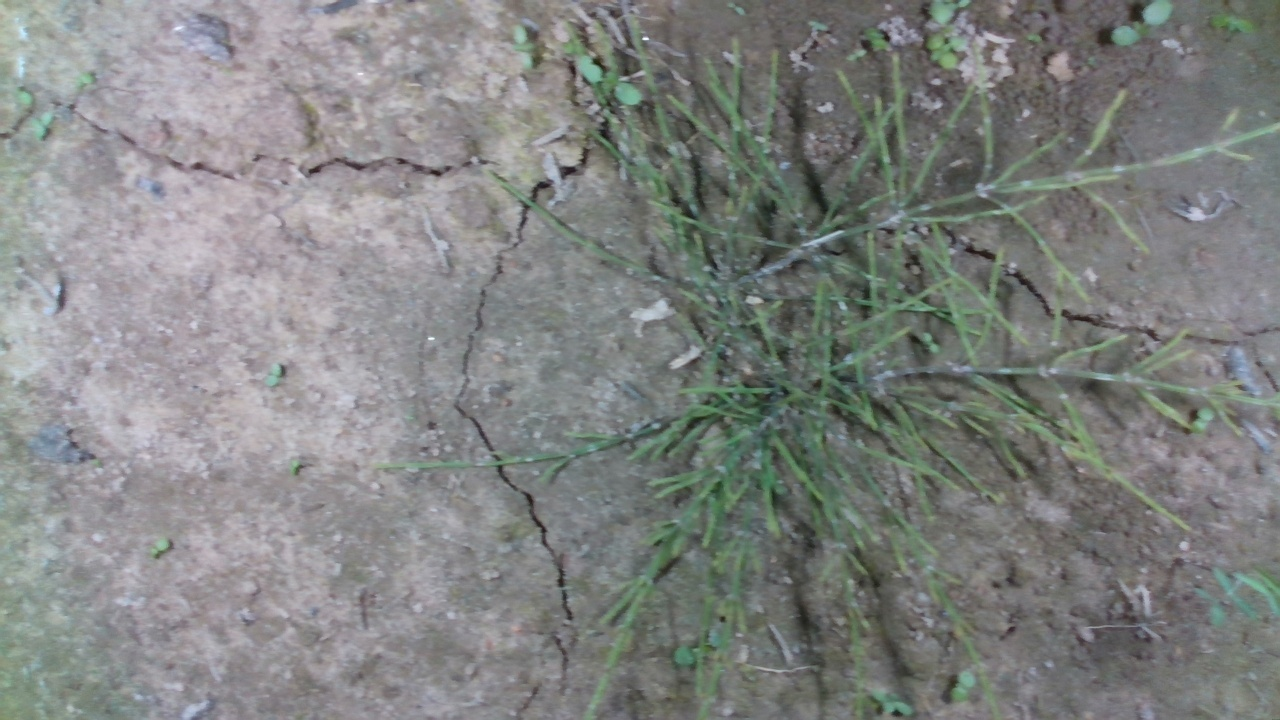weed: (138, 539, 178, 566), (258, 364, 282, 389)
